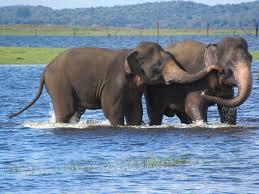elephant: (11, 37, 251, 124)
